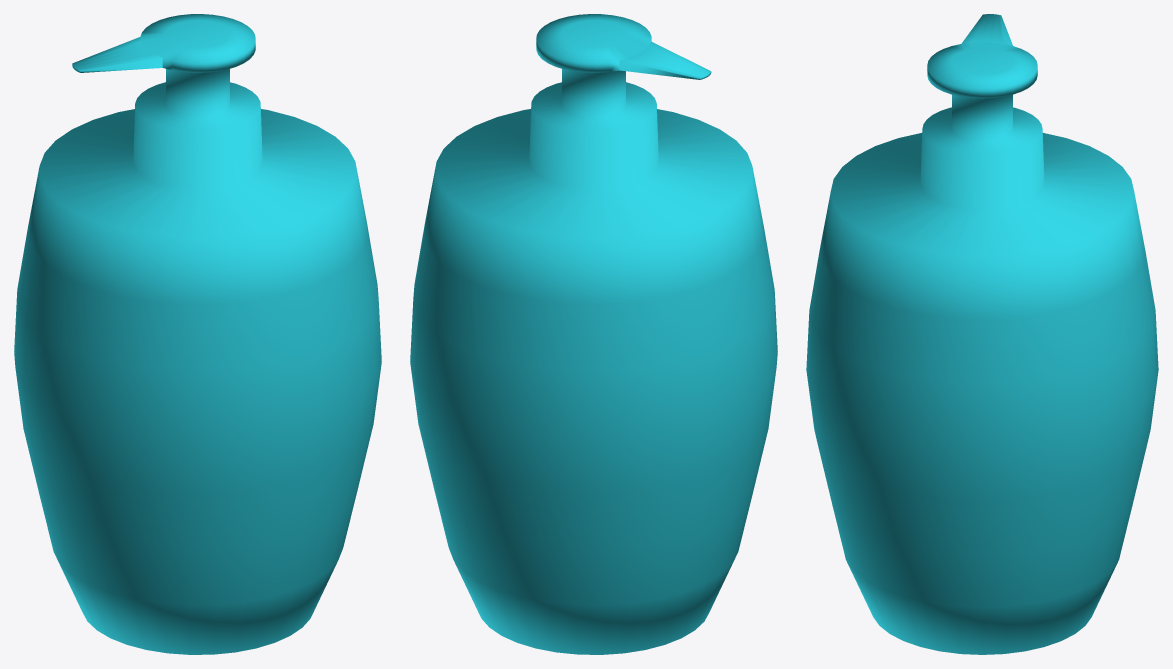
Rendered from SaponeLiquidoVaniglia.fbx.
The picture shows the model from 3 angles, left to right: view 1: azimuth 30°, elevation 25°; view 2: azimuth 150°, elevation 25°; view 3: azimuth 270°, elevation 25°; orthographic projection. The views are drawn at different scales.
Visible parts, largest first — view 1: SaponeLiquido.003; view 2: SaponeLiquido.003; view 3: SaponeLiquido.003.
Boxes of the visible parts, left/top/right/bottom form: SaponeLiquido.003: left=14, top=14, right=381, bottom=654; SaponeLiquido.003: left=410, top=14, right=777, bottom=654; SaponeLiquido.003: left=806, top=14, right=1158, bottom=654.
Bounding box in the file's own units: 272 × 465 × 272.
